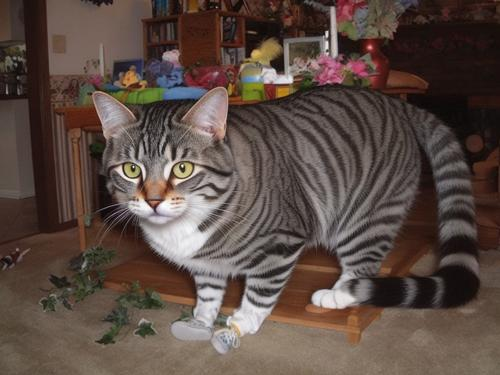cat: (91, 83, 479, 308)
person: (179, 171, 289, 351)
person/foot: (171, 319, 212, 340), (211, 327, 239, 355)
person/hand: (201, 276, 224, 291), (254, 286, 275, 300)
person/head: (230, 171, 272, 229)
pottedplant: (42, 188, 225, 348), (281, 227, 368, 322), (307, 51, 376, 95)
